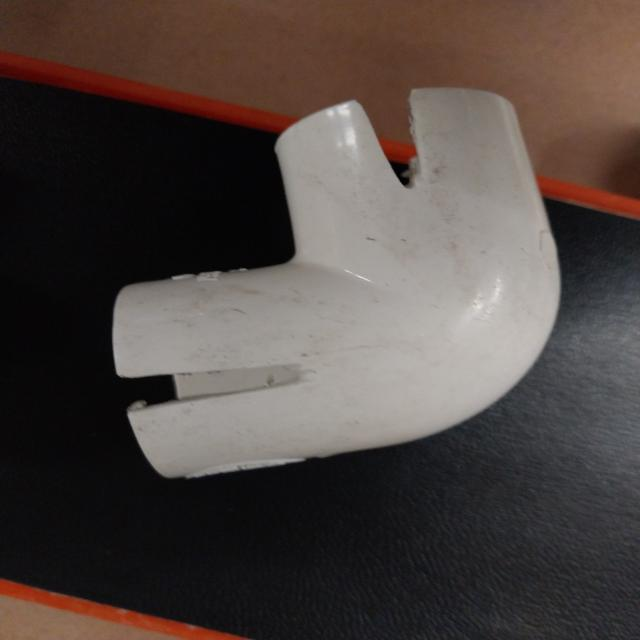Defective: (113, 354, 348, 430), (342, 87, 458, 216), (121, 362, 318, 402), (115, 366, 307, 406), (362, 85, 416, 185)
L Joint: (110, 87, 563, 481)
